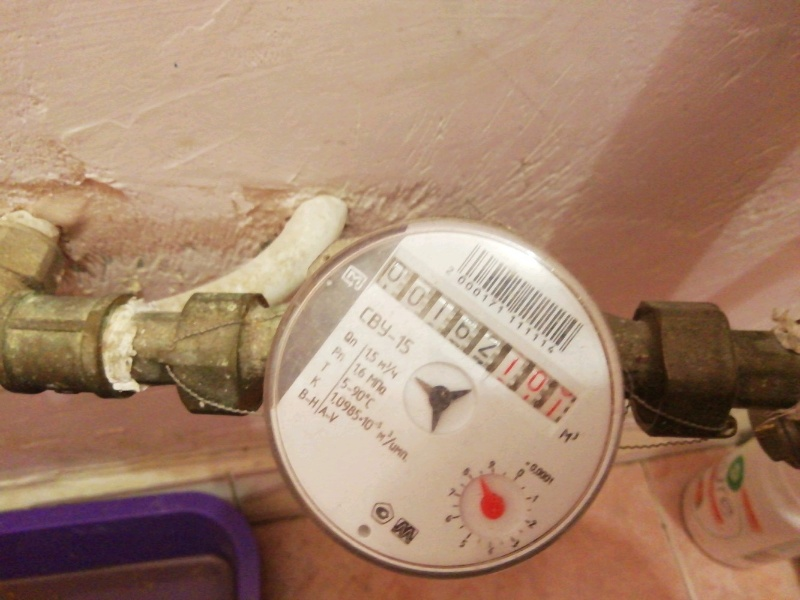dial: (369, 270, 590, 413)
